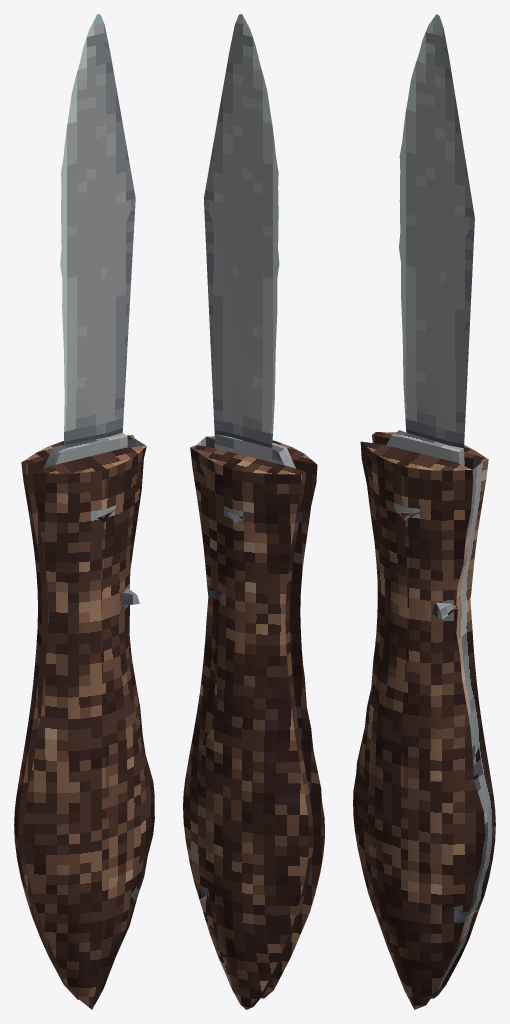
The model's file is fish_knife.glb.
3 renders of one model, left to right at view 1: azimuth 30°, elevation 25°; view 2: azimuth 150°, elevation 25°; view 3: azimuth 330°, elevation 25°, orthographic.
Visible parts, largest first — view 1: body; view 2: body; view 3: body.
Part boxes in pixels (bbox=[...]): body: bbox=[14, 14, 154, 1009]; body: bbox=[183, 14, 324, 1009]; body: bbox=[353, 14, 495, 1009].
Bounding box in the file's own units: 0.0301 × 0.2157 × 0.0161.
Materials: 1 (1 with a texture image).
